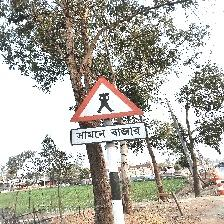Market-in-front: (69, 76, 147, 146)
